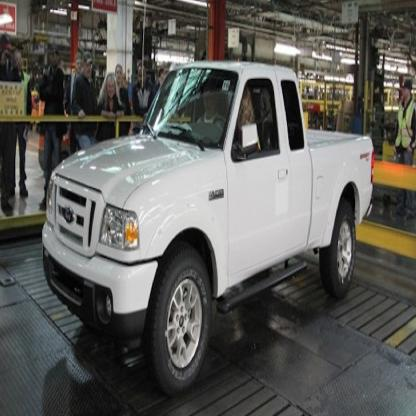Vehicle: (39, 58, 378, 388)
